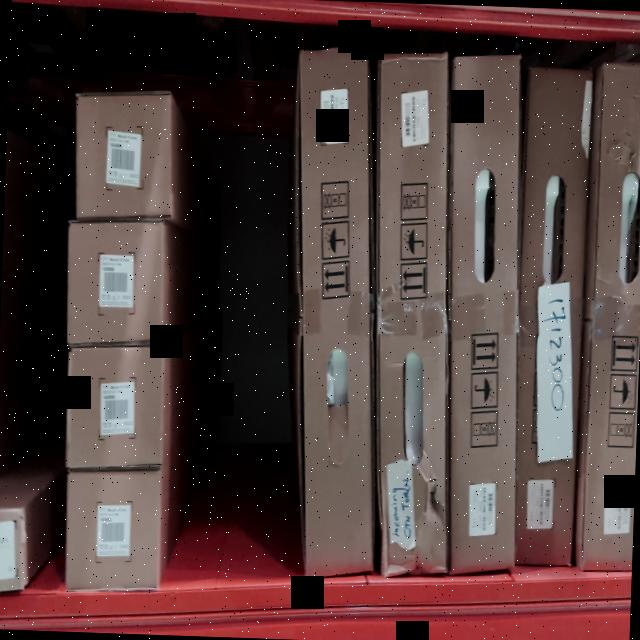box: (300, 43, 373, 576), (379, 54, 446, 577), (455, 52, 516, 569), (72, 94, 170, 218), (64, 220, 162, 342), (66, 476, 160, 588), (69, 352, 161, 466)
